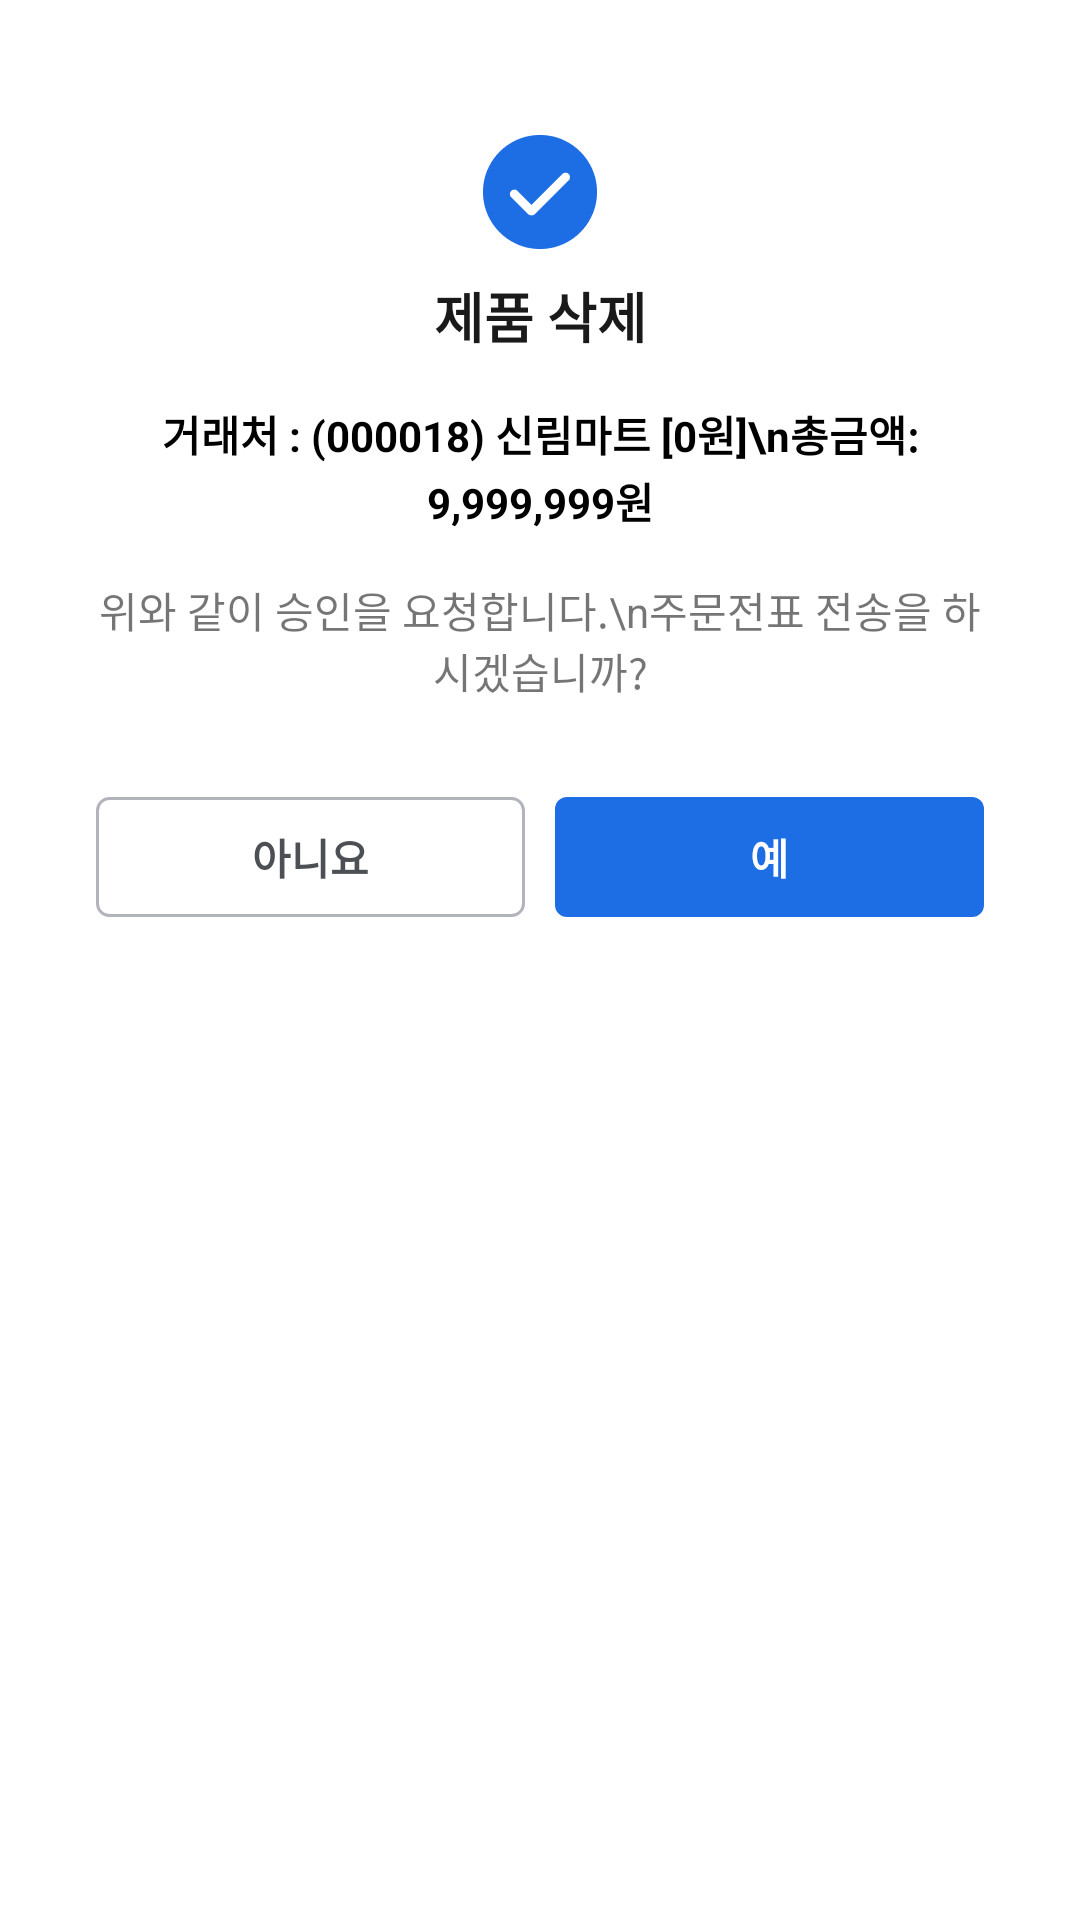

Icons on this 1080px×1920px Android screen, each with its box as (x1, y1, x2, y2):
check circle: (483, 135, 597, 249)
